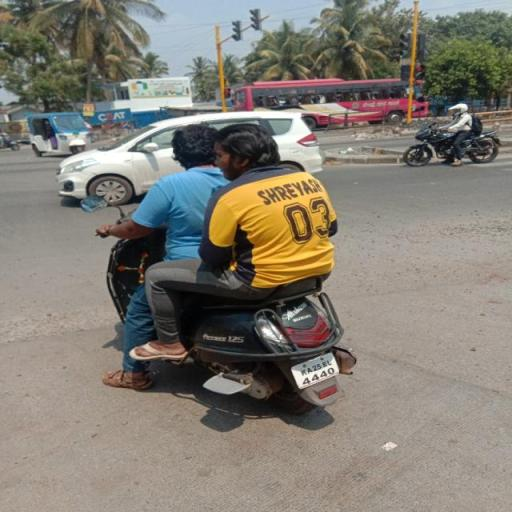bike: (87, 122, 366, 418)
numberplate: (285, 344, 345, 394)
withouthelmet: (213, 123, 272, 170), (175, 126, 212, 166)
